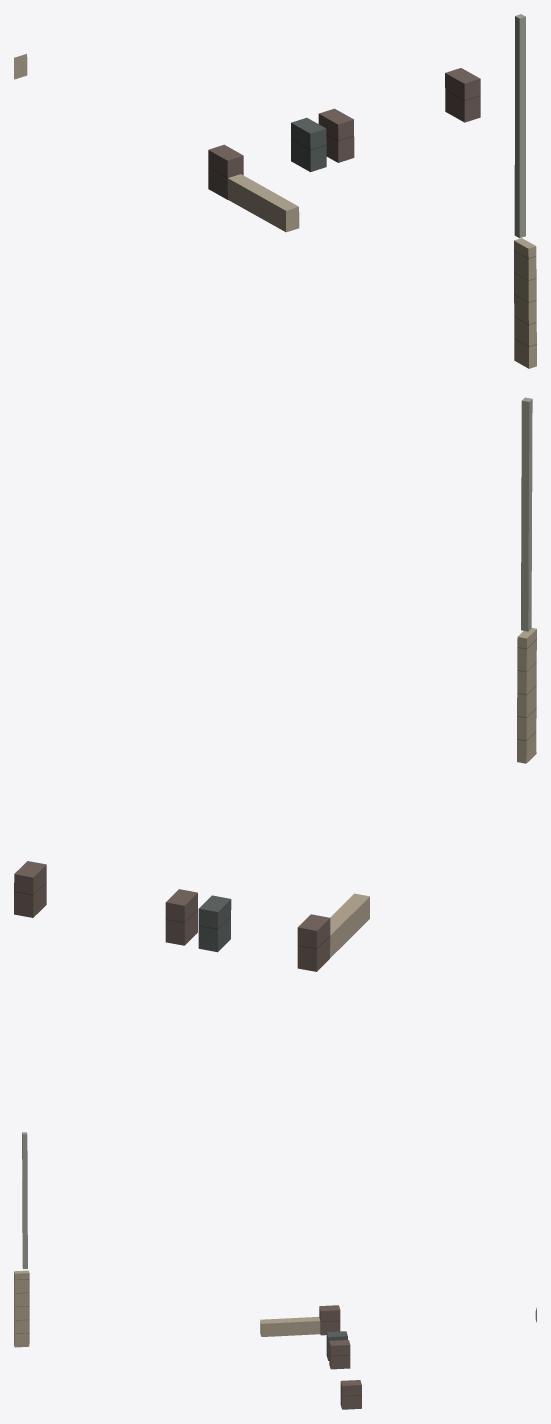
File: terminal-29---120_-19.glb
3 renders of one model, top to bottom at view 1: azimuth 30°, elevation 25°; view 2: azimuth 150°, elevation 25°; view 3: azimuth 270°, elevation 25°, orthographic. The views are drawn at different scales.
Parts seen in each view (by area): view 1: measured-industrial; view 2: measured-industrial; view 3: measured-industrial.
Boxes of the visible parts, bbox=[...] form: measured-industrial: bbox=[14, 14, 536, 368]; measured-industrial: bbox=[14, 397, 536, 971]; measured-industrial: bbox=[14, 1132, 536, 1409].
Bounding box in the file's own units: 43.93 × 47.31 × 105.
